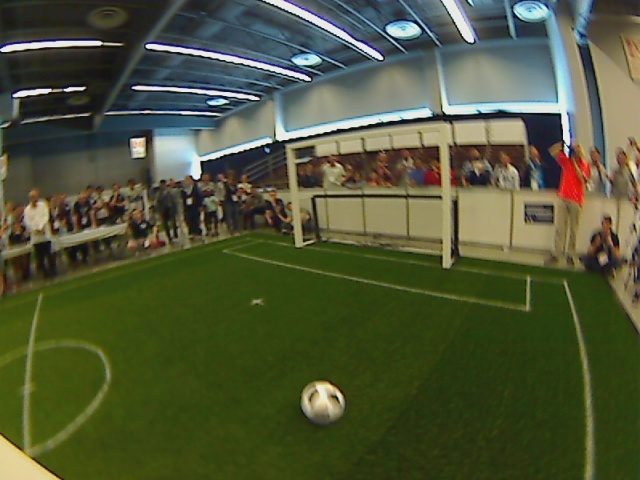ball: (299, 379, 346, 426)
